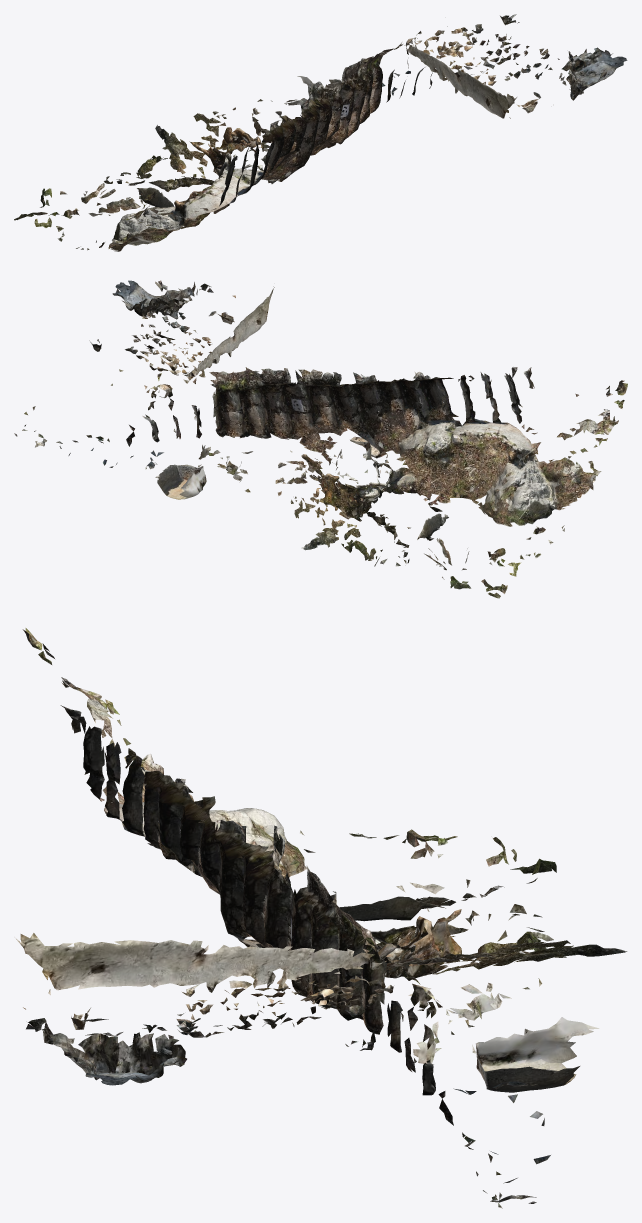
3 renders of one model, top to bottom at view 1: azimuth 30°, elevation 25°; view 2: azimuth 150°, elevation 25°; view 3: azimuth 270°, elevation 25°, orthographic. The views are drawn at different scales.
Bounding box in the file's own units: 11.1 × 2.83 × 6.34.
1 material, 1 textured.
